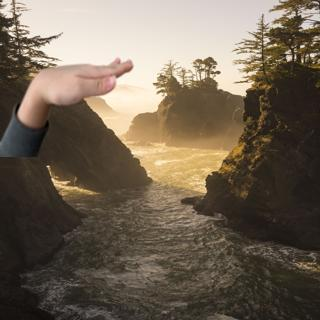Wait: (16, 52, 136, 113)
